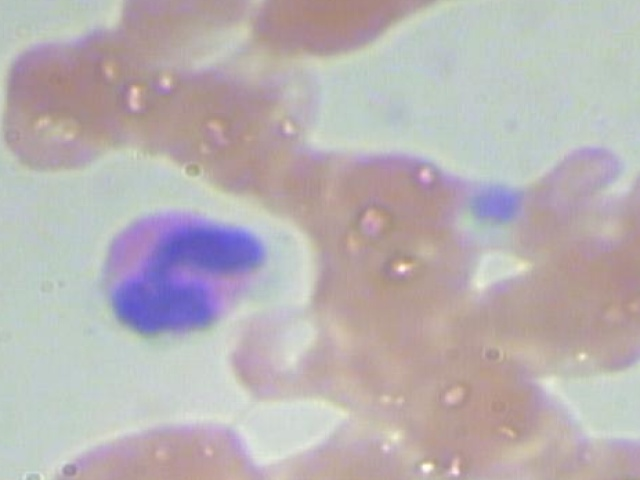Platelets: (457, 180, 529, 224)
RBC: (514, 230, 640, 381), (0, 21, 114, 174), (34, 411, 265, 480), (322, 145, 475, 245), (229, 299, 361, 413), (394, 340, 526, 454), (471, 375, 603, 480), (246, 0, 453, 63), (112, 0, 265, 72), (543, 419, 640, 480)
WBC: (63, 195, 289, 345)
